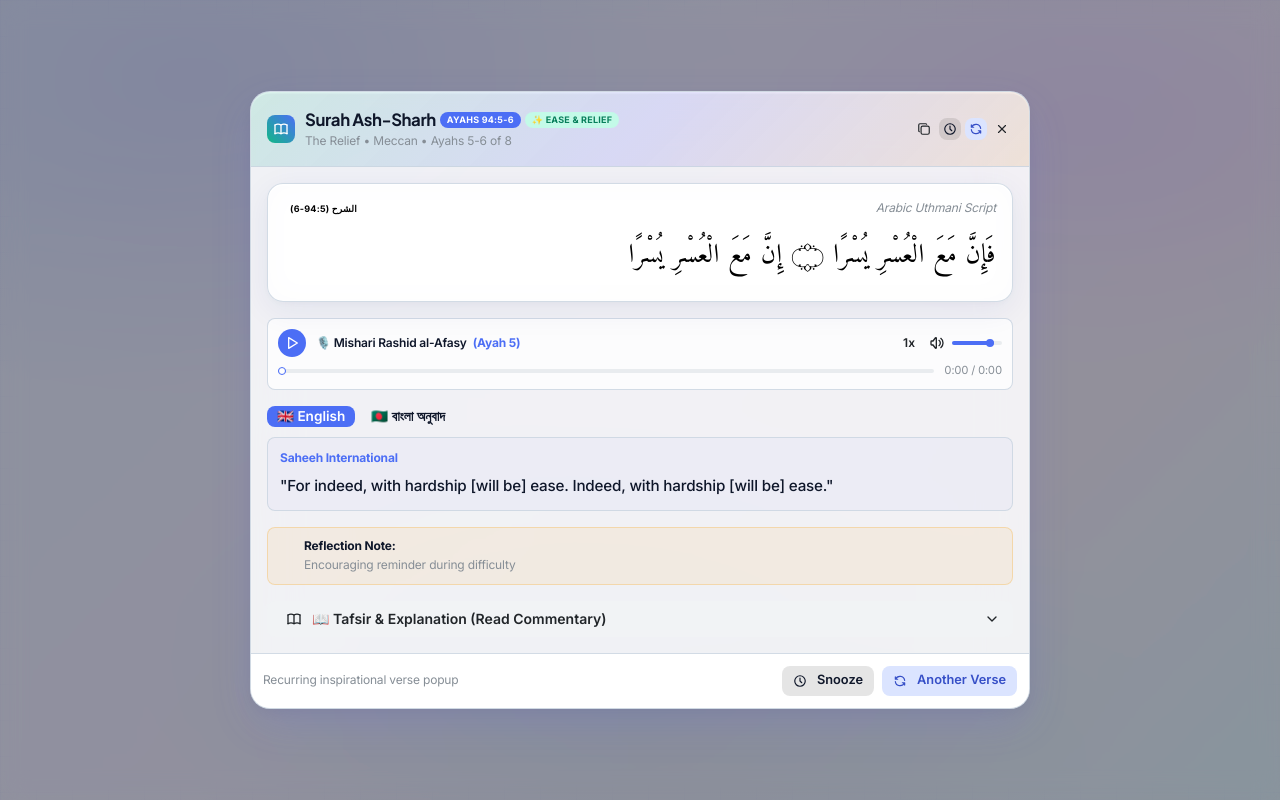
QuranVerseModal Component › renders English and Bangla translations and switches tabs
Check: the text "\"For indeed, with hardship [will be] ease. Indeed, with hardship [will be] ease.\"" is shown, box [280, 476, 833, 495]
Note: Switch to Bangla tab
Step 1. Click the tab "🇧🇩 বাংলা অনুবাদ" → [408, 417], box [361, 406, 455, 427]
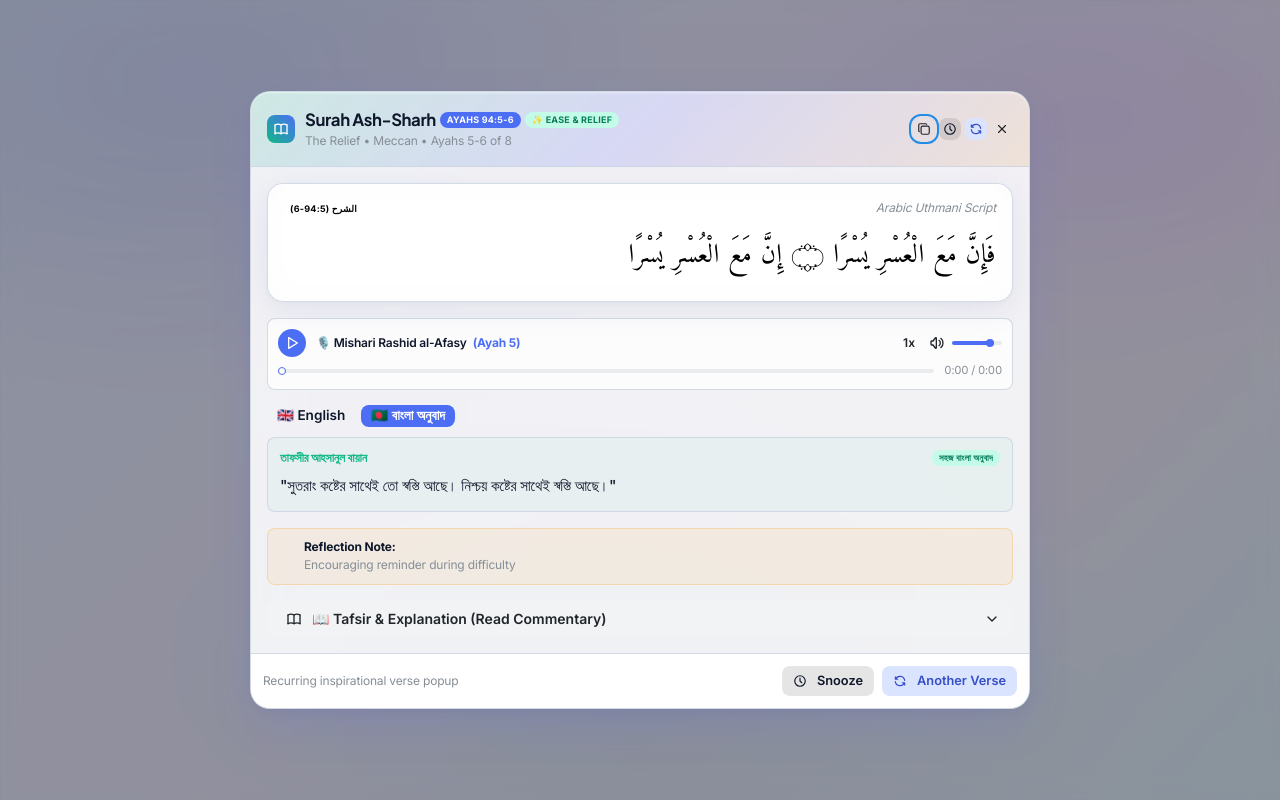
Check: the text "\"সুতরাং কষ্টের সাথেই তো স্বস্তি আছে। নিশ্চয় কষ্টের সাথেই স্বস্তি আছে।\"" is shown, box [280, 476, 616, 495]
